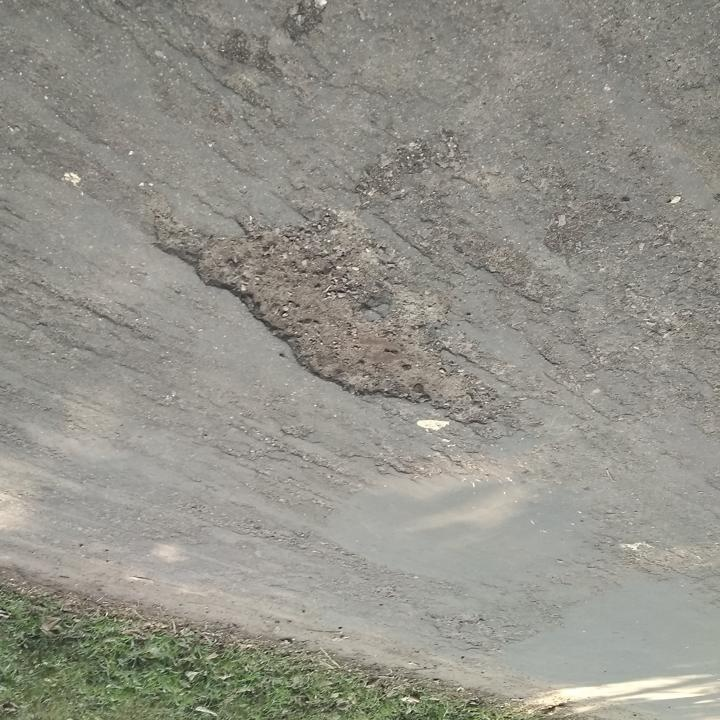pothole: (142, 196, 507, 429)
